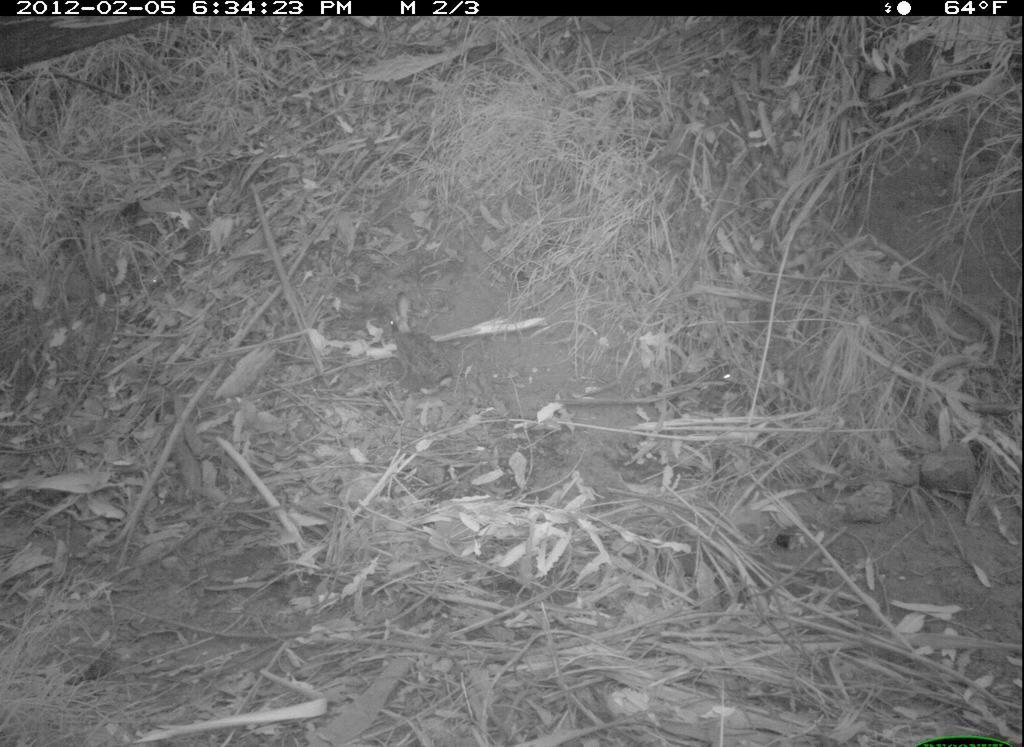rabbit: (379, 290, 469, 393)
